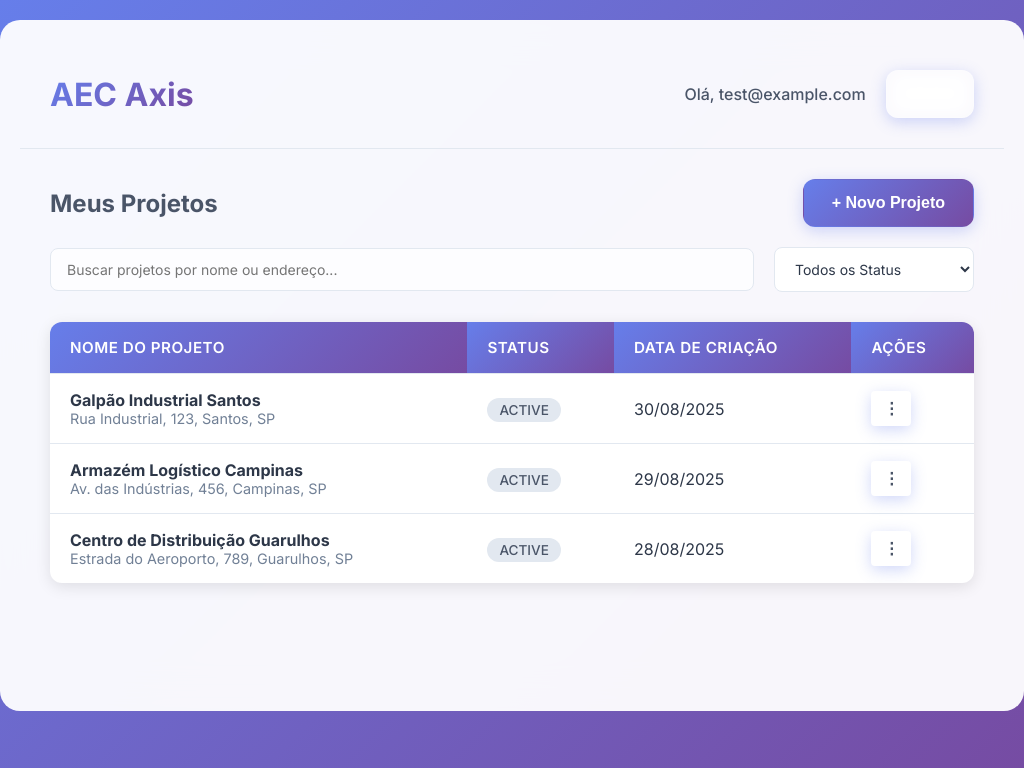
Projects Page › Project Action Menus › closes menu when clicking outside
Expected: the text "Galpão Industrial Santos" is shown, [70,390,261,410]
Click the button named "ações do projeto" at (891, 408), box [871,391,911,426]
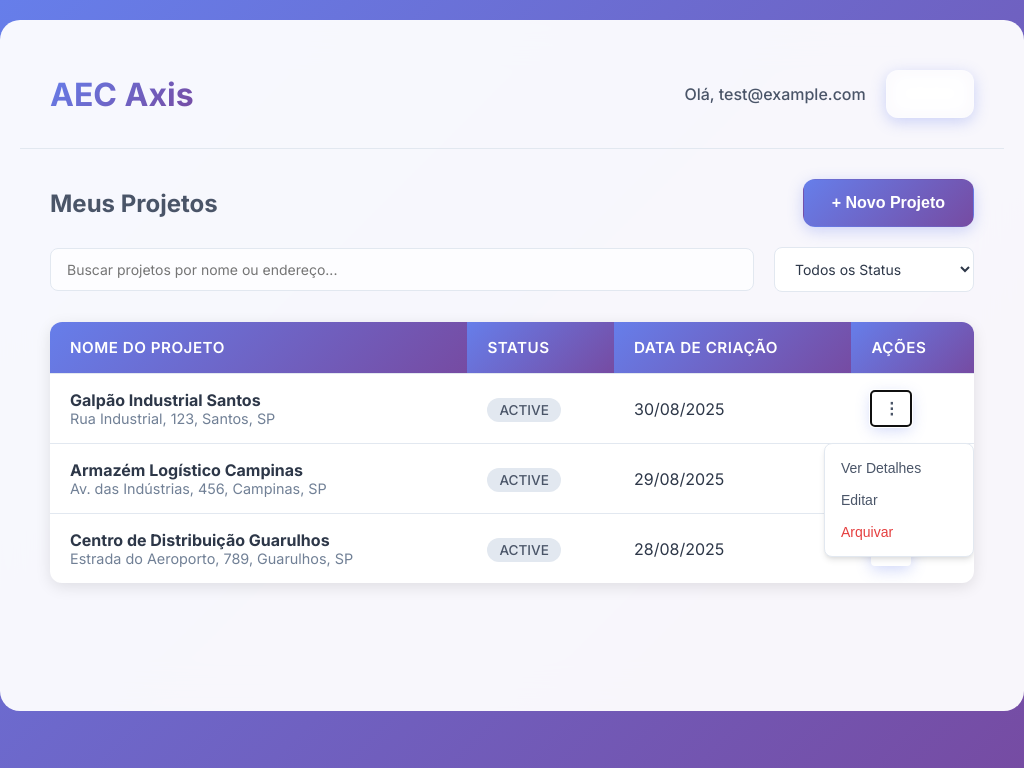
Now the button "Ver Detalhes" is shown, box [825,452,973,484]
# Click outside the menu
Click the heading "AEC Axis" at (122, 94), box [50,74,194,114]
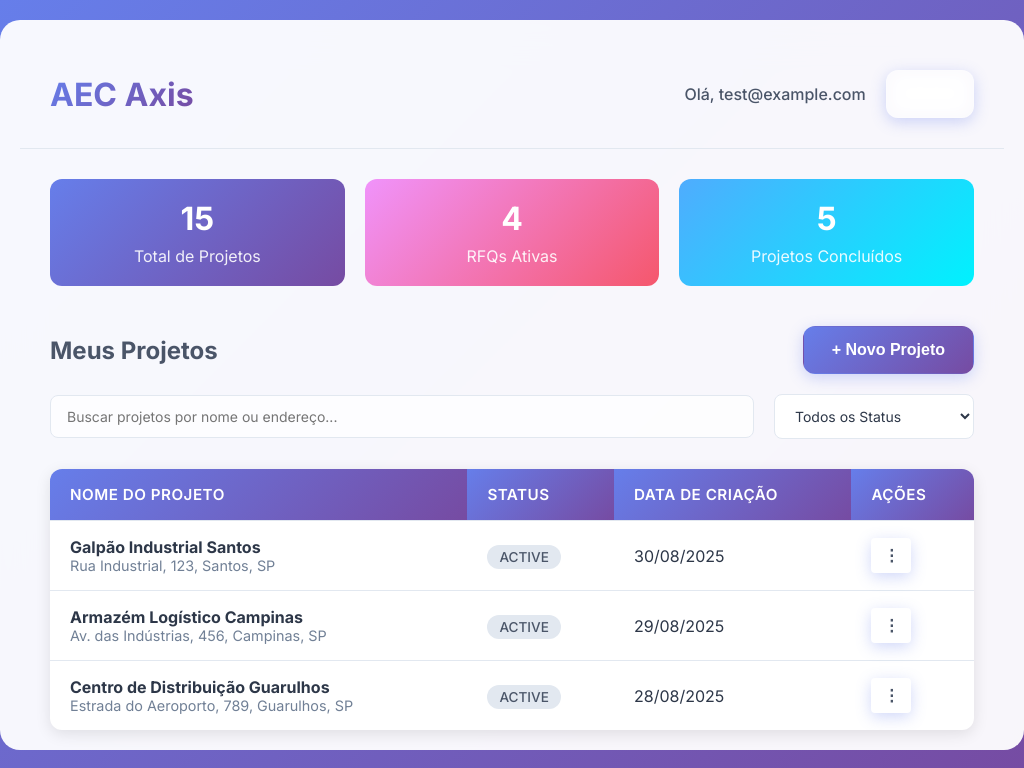
Now the button "Ver Detalhes" is gone
